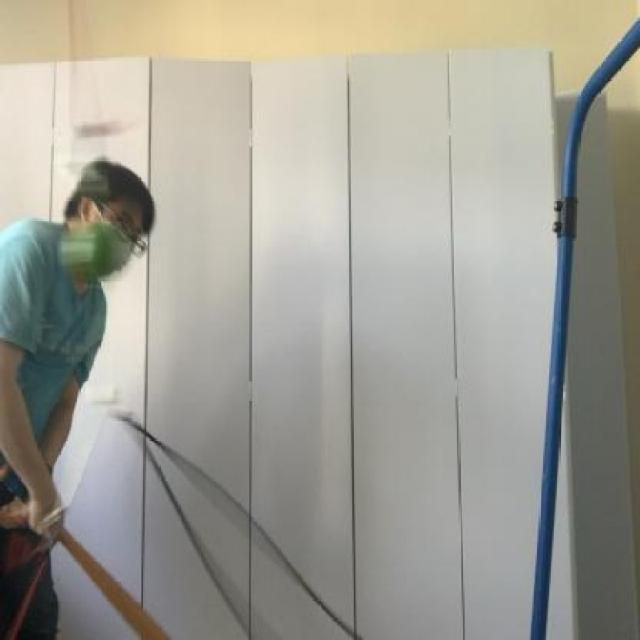baseball: (50, 220, 132, 280)
